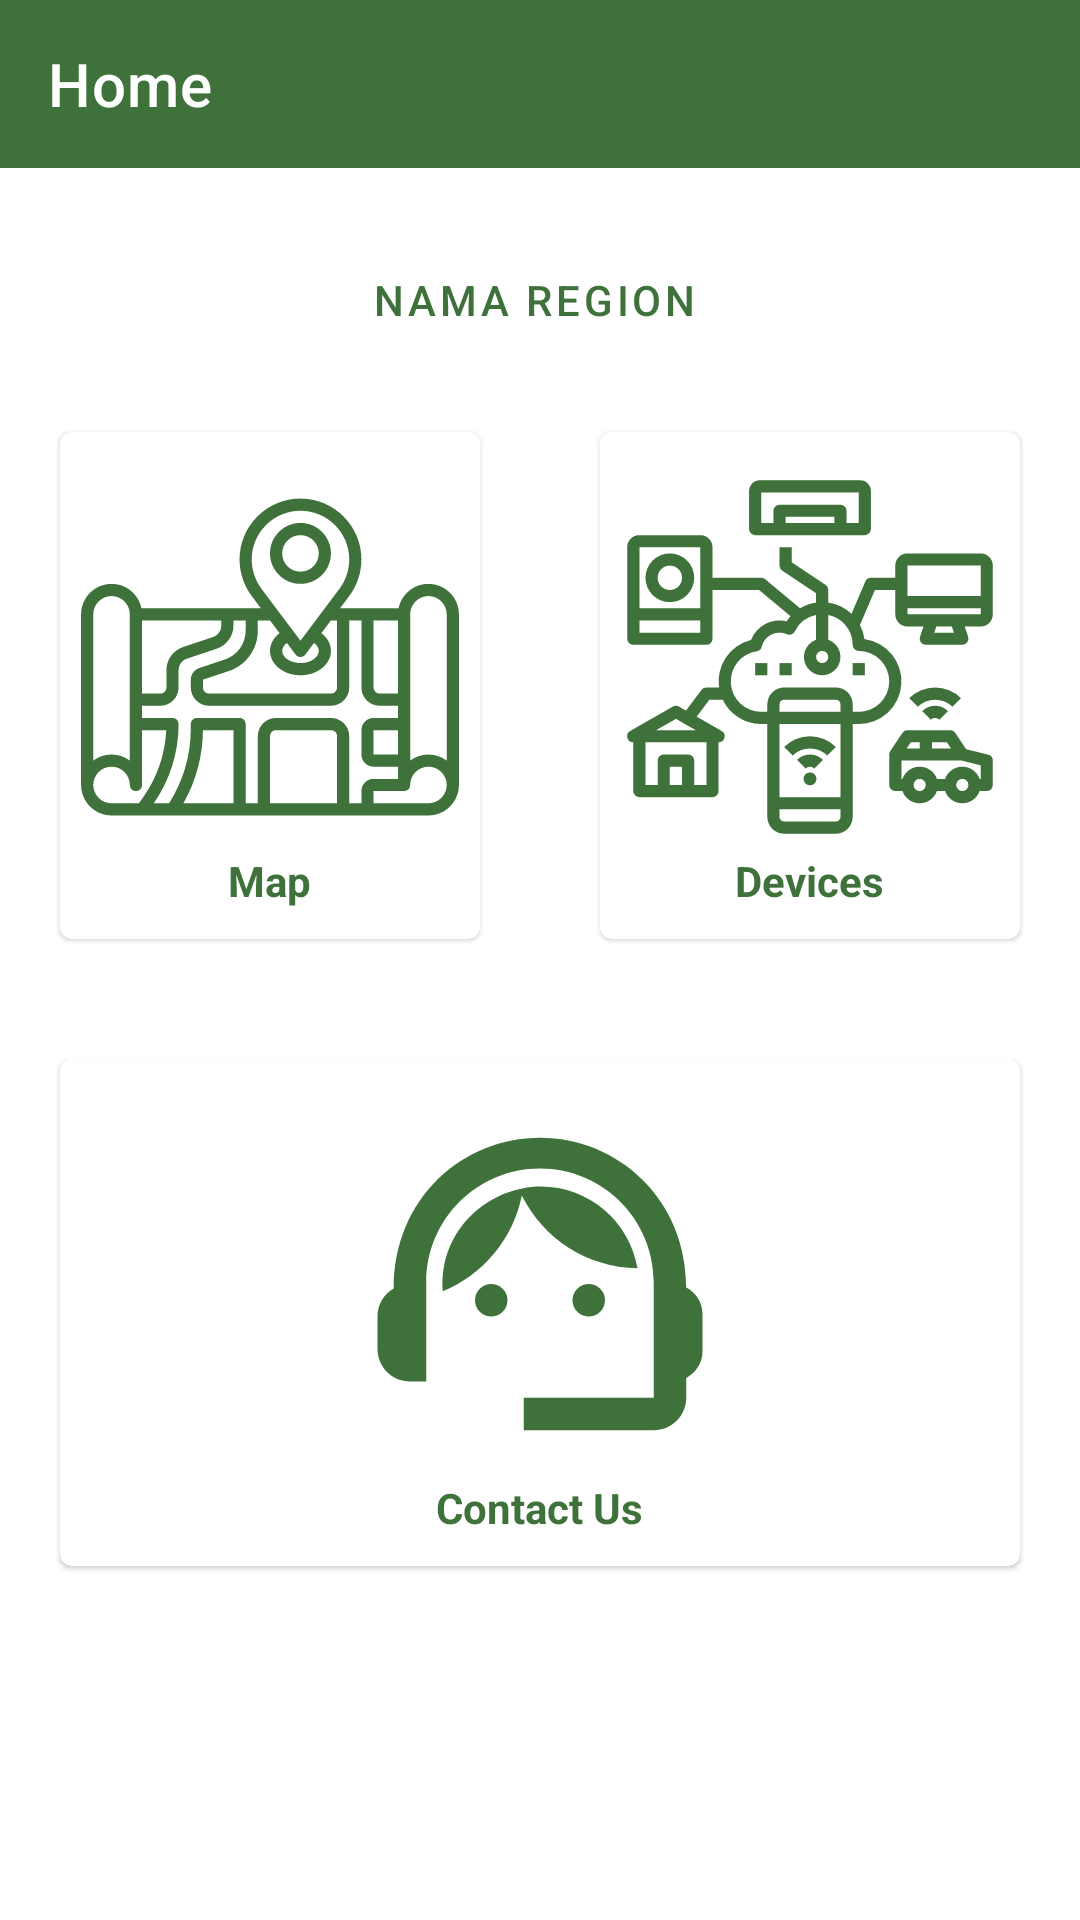

Locate icon controls on the screen. Image size 1080px x 1920px, boxes as (x1, y1, x2, y2).
support agent: (377, 1137, 703, 1431)
